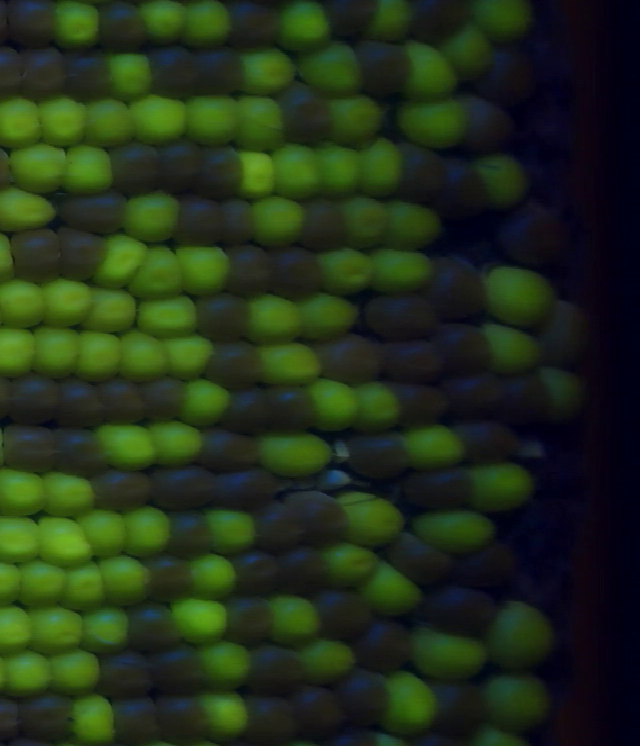fluorescent: (475, 663, 557, 729), (488, 265, 564, 332), (486, 602, 560, 665), (393, 94, 475, 149), (123, 89, 199, 147), (411, 627, 497, 678), (253, 433, 344, 481), (335, 491, 408, 549), (434, 17, 495, 84), (256, 337, 333, 390), (380, 667, 438, 737), (178, 88, 245, 147), (298, 41, 368, 97), (405, 513, 500, 554), (27, 514, 95, 569), (34, 463, 99, 520), (28, 324, 89, 383), (361, 556, 424, 613), (23, 605, 90, 658), (91, 422, 159, 474), (94, 554, 160, 607), (96, 231, 154, 290), (181, 1, 241, 58), (405, 38, 455, 106), (266, 142, 324, 200), (34, 95, 93, 152), (198, 509, 268, 557), (3, 139, 70, 189), (310, 246, 379, 294), (175, 244, 238, 296), (324, 95, 388, 146), (236, 44, 298, 96), (73, 606, 136, 657), (245, 296, 308, 346), (119, 194, 178, 247), (302, 382, 362, 434), (313, 142, 364, 203), (51, 1, 106, 57), (277, 1, 333, 56), (233, 92, 288, 148), (129, 243, 183, 300), (59, 141, 116, 194), (83, 282, 141, 334), (174, 380, 233, 431), (33, 273, 93, 323), (466, 466, 537, 508), (134, 291, 200, 336), (14, 562, 73, 612), (116, 331, 172, 383), (400, 426, 471, 467), (143, 423, 209, 467), (81, 99, 139, 149), (0, 188, 60, 236), (199, 686, 250, 742), (117, 504, 174, 554), (199, 639, 256, 689), (0, 644, 54, 696), (297, 294, 359, 339), (356, 139, 404, 197), (385, 199, 444, 246), (476, 1, 536, 47), (71, 328, 126, 378), (169, 598, 228, 644), (372, 248, 435, 291), (53, 561, 107, 611), (69, 697, 126, 744), (107, 53, 160, 103), (0, 469, 54, 518), (136, 1, 193, 47), (157, 335, 215, 380), (183, 554, 241, 599), (538, 366, 589, 417), (255, 198, 304, 251), (300, 642, 359, 686), (481, 155, 530, 207), (355, 382, 404, 434), (485, 323, 538, 371), (78, 511, 131, 559), (340, 195, 386, 249), (267, 598, 327, 639), (47, 653, 106, 694), (232, 147, 279, 198), (323, 541, 368, 593), (0, 323, 41, 378), (0, 512, 44, 563), (363, 1, 412, 46), (0, 275, 44, 325), (0, 97, 42, 147), (0, 600, 39, 652)
nonfluorescent: (48, 422, 126, 484), (422, 579, 498, 635), (387, 525, 454, 587), (361, 293, 447, 341), (499, 211, 566, 272), (285, 491, 354, 546), (531, 301, 588, 367), (344, 434, 415, 486), (268, 243, 327, 305), (50, 224, 106, 289), (431, 259, 487, 323), (87, 468, 161, 516), (483, 46, 538, 110), (56, 190, 134, 235), (155, 135, 208, 200), (394, 139, 447, 204), (334, 672, 396, 727), (248, 643, 312, 696), (315, 335, 387, 382), (404, 470, 479, 515), (436, 322, 499, 375), (444, 368, 511, 417), (456, 418, 523, 467), (198, 142, 248, 207), (6, 227, 64, 283), (279, 86, 334, 145), (289, 683, 348, 738), (105, 691, 164, 746), (309, 592, 375, 641), (407, 1, 477, 47), (148, 464, 220, 508), (242, 690, 298, 746), (357, 41, 414, 96), (498, 368, 551, 426), (9, 372, 67, 425), (219, 594, 278, 646), (225, 1, 285, 52), (451, 547, 525, 588), (197, 293, 253, 347), (436, 161, 489, 218), (143, 553, 201, 605), (354, 622, 414, 672), (203, 341, 265, 389), (56, 376, 111, 430), (18, 45, 71, 101), (163, 506, 216, 562), (151, 645, 209, 696), (15, 691, 74, 741), (153, 694, 214, 742), (95, 1, 149, 55), (110, 139, 162, 195), (94, 379, 152, 429), (390, 378, 453, 424), (7, 1, 64, 51), (221, 246, 274, 299), (142, 378, 194, 432), (200, 425, 258, 473), (462, 94, 513, 148), (300, 199, 349, 255), (214, 466, 278, 508), (314, 1, 381, 41), (220, 388, 273, 438), (264, 386, 320, 433), (436, 684, 483, 740), (246, 503, 303, 549), (63, 49, 112, 102), (175, 195, 221, 251), (98, 652, 154, 698), (0, 426, 55, 472), (276, 547, 326, 597), (151, 47, 199, 99), (217, 200, 264, 252), (388, 336, 447, 377), (128, 602, 176, 651), (199, 46, 244, 95), (230, 554, 282, 596)
